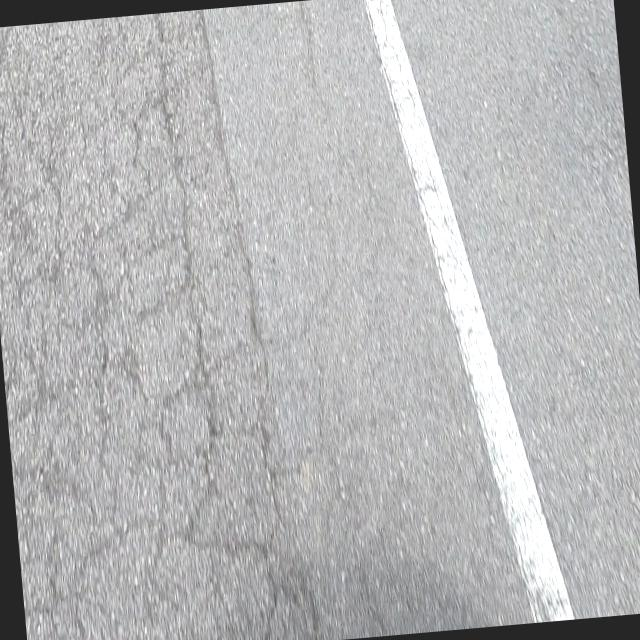Retak-Buaya: (0, 10, 312, 640)
